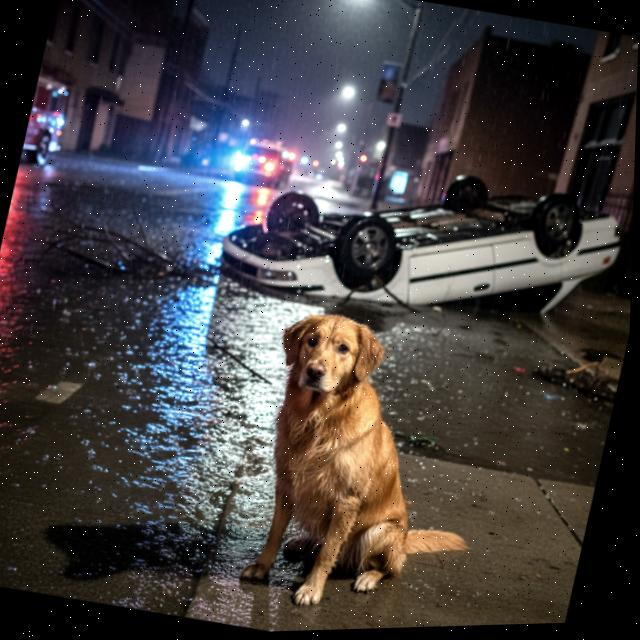dog: (213, 283, 524, 633)
